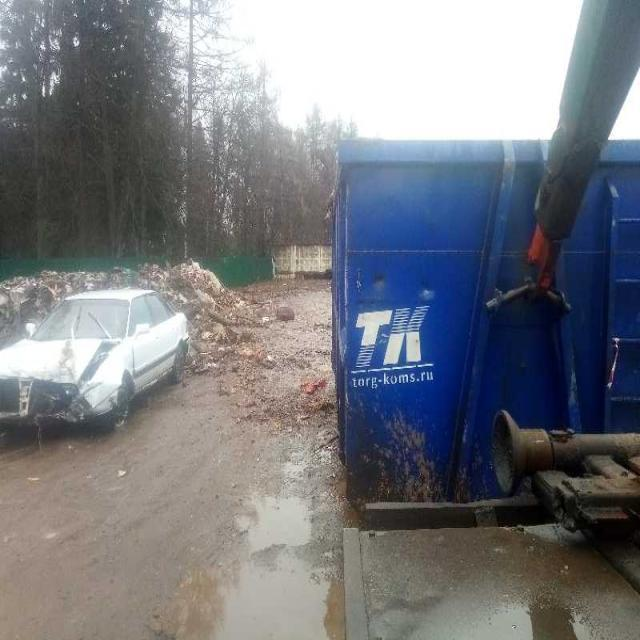Dumpster: (330, 134, 640, 528)
